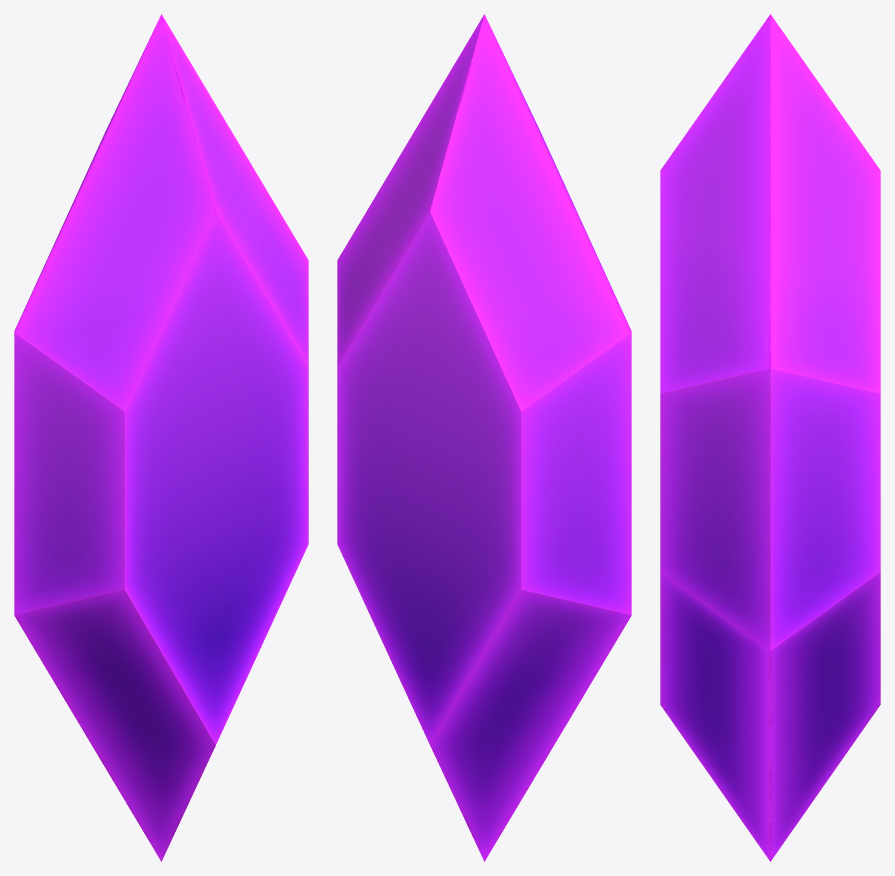
The model's file is PurpleCrystal.glb.
3 renders of one model, left to right at view 1: azimuth 30°, elevation 25°; view 2: azimuth 150°, elevation 25°; view 3: azimuth 270°, elevation 25°, orthographic.
Parts seen in each view (by area): view 1: 1.92_Material.001_0; view 2: 1.92_Material.001_0; view 3: 1.92_Material.001_0.
Boxes of the visible parts, <box> form: 1.92_Material.001_0: <box>14,14,308,861</box>; 1.92_Material.001_0: <box>337,14,631,861</box>; 1.92_Material.001_0: <box>660,14,880,861</box>.
Size of the model in its own units: 0.7619 by 2.1 by 0.4939.
Materials: 1 (1 with a texture image).
